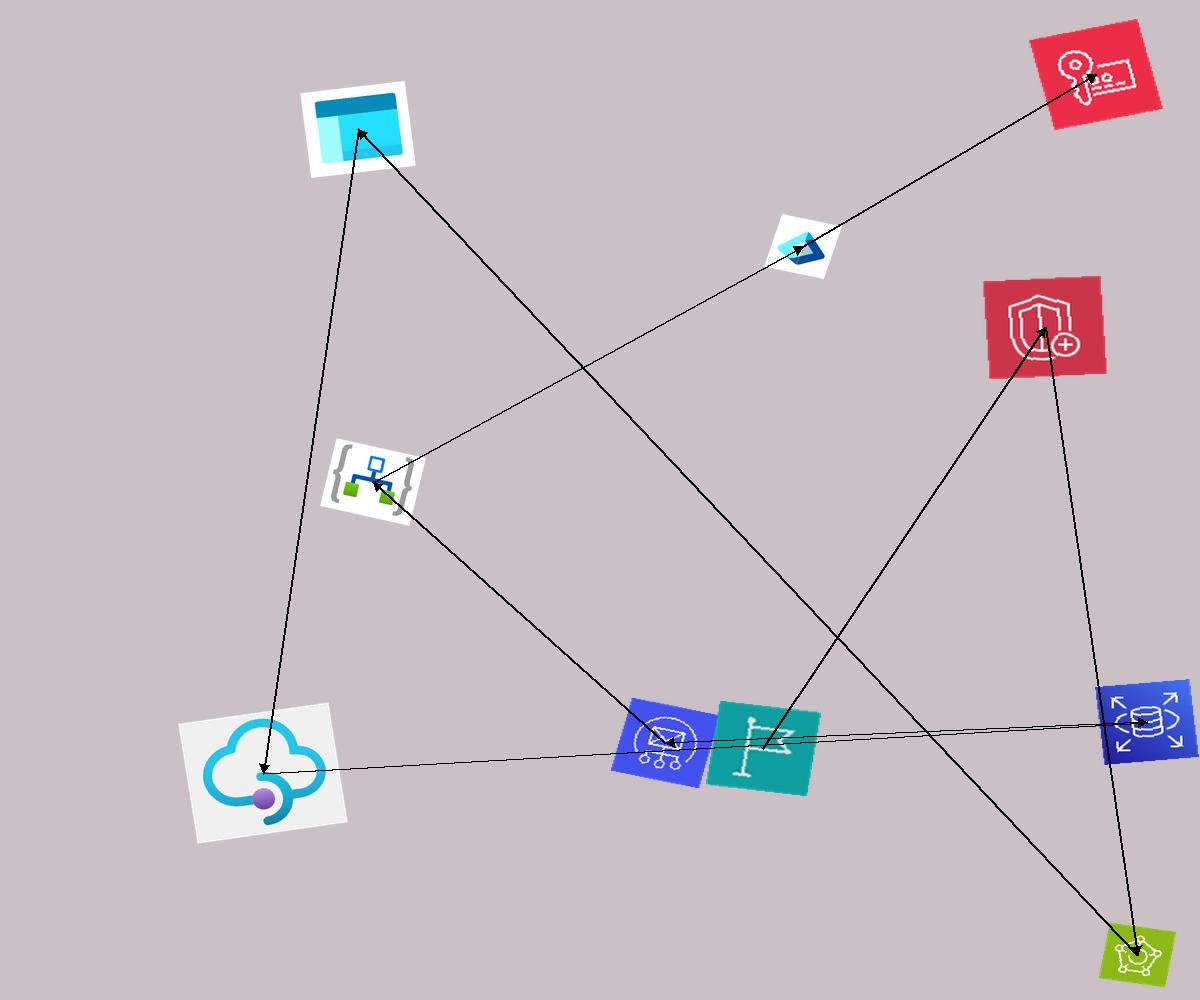AWS-Backup: (1098, 922, 1177, 988)
AWS-Key-Management-Service: (1028, 18, 1164, 131)
AWS-RDS: (1095, 679, 1199, 765)
AWS-Region: (705, 700, 822, 797)
AWS-Shield: (982, 275, 1108, 380)
AWS-Simple-Email-Service: (610, 697, 721, 789)
Azure_api_gateway: (178, 702, 348, 844)
Azure_integration-204-Logic-Apps: (320, 438, 426, 526)
Azure_management-portal: (300, 81, 416, 178)
Azure_microsoft_entra: (764, 214, 842, 279)
